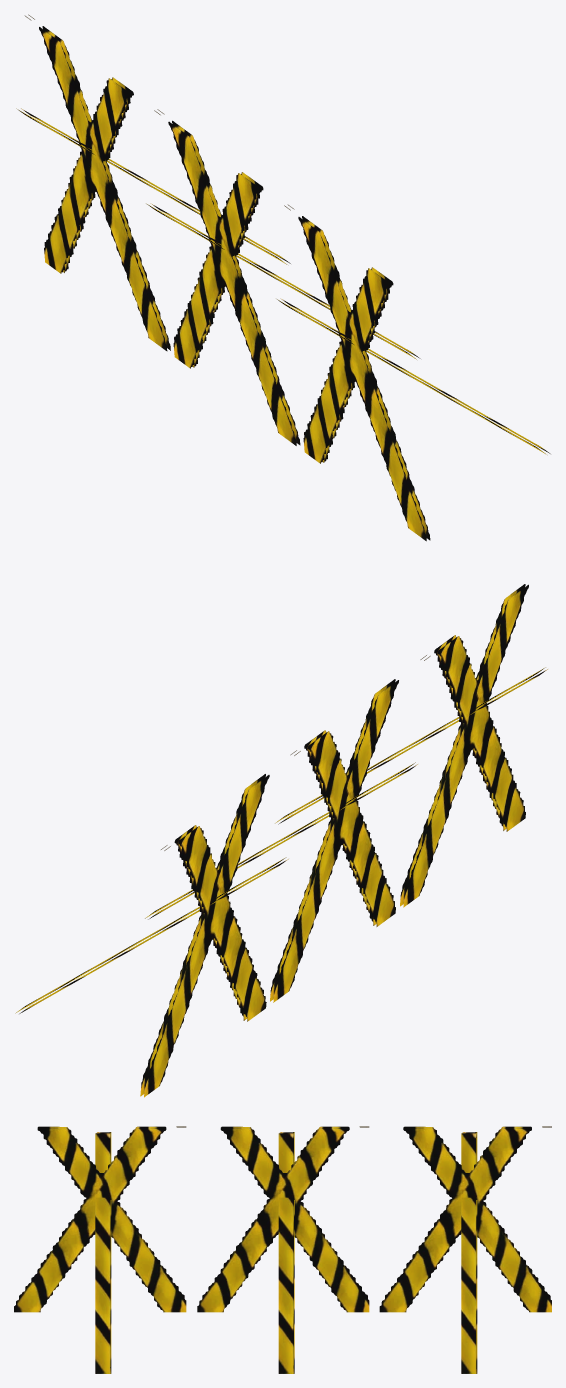
Rendered from smallbarricade_hdtex.glb.
The picture shows the model from 3 angles, top to bottom: view 1: azimuth 30°, elevation 25°; view 2: azimuth 150°, elevation 25°; view 3: azimuth 270°, elevation 25°; orthographic projection. The views are drawn at different scales.
Visible parts, largest first — view 1: Barricade; view 2: Barricade; view 3: Barricade.
Part boxes in pixels (box(x1,y1,x2,y2)): Barricade: box(16, 14, 550, 541); Barricade: box(15, 584, 547, 1097); Barricade: box(14, 1126, 551, 1373).
Size of the model in its own units: 2.01 by 1.81 by 4.98.
Materials: 1 (1 with a texture image).
